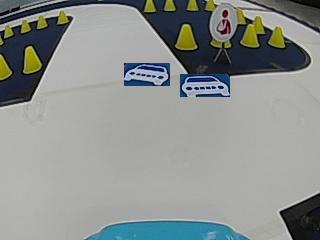cone: (175, 23, 197, 50), (22, 45, 41, 73), (242, 25, 259, 47), (268, 26, 285, 48), (0, 53, 12, 80), (56, 10, 69, 24), (143, 0, 156, 13), (36, 15, 48, 29), (236, 7, 245, 23), (3, 24, 14, 37), (20, 19, 31, 32), (164, 0, 176, 11), (186, 0, 198, 11)
patient: (210, 4, 237, 40)
